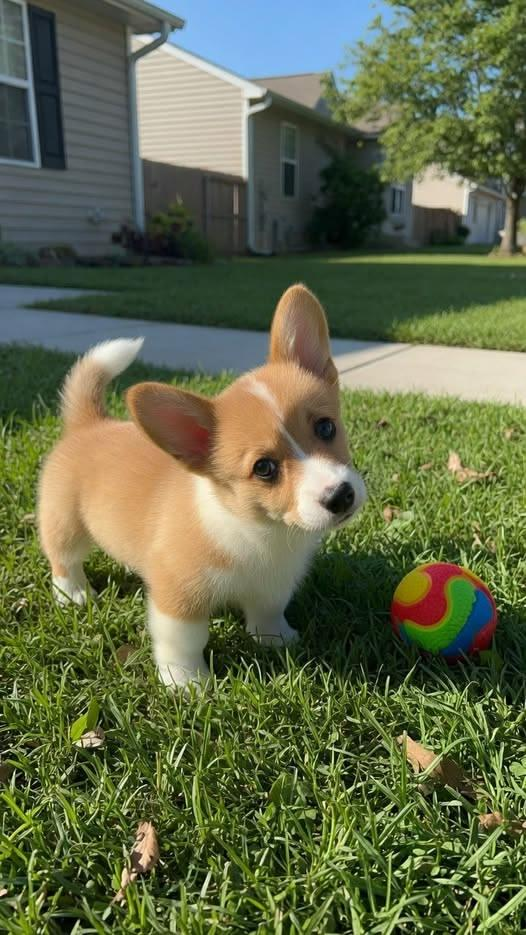dog: (39, 285, 365, 684)
